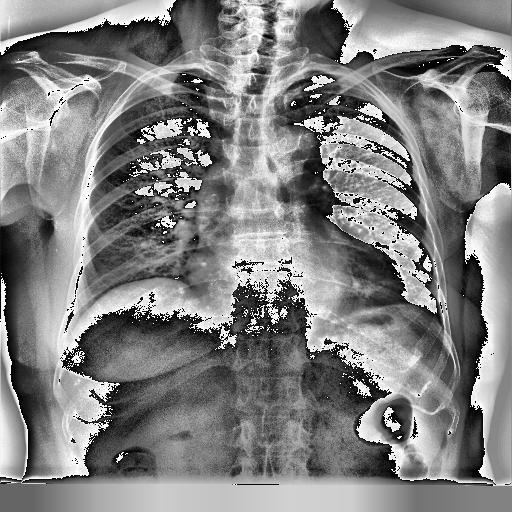0- Aortic enlargement: (200, 126, 324, 252), (264, 128, 326, 186), (262, 126, 324, 166)
3- Cardiomegaly: (184, 246, 408, 308), (181, 257, 411, 303)
